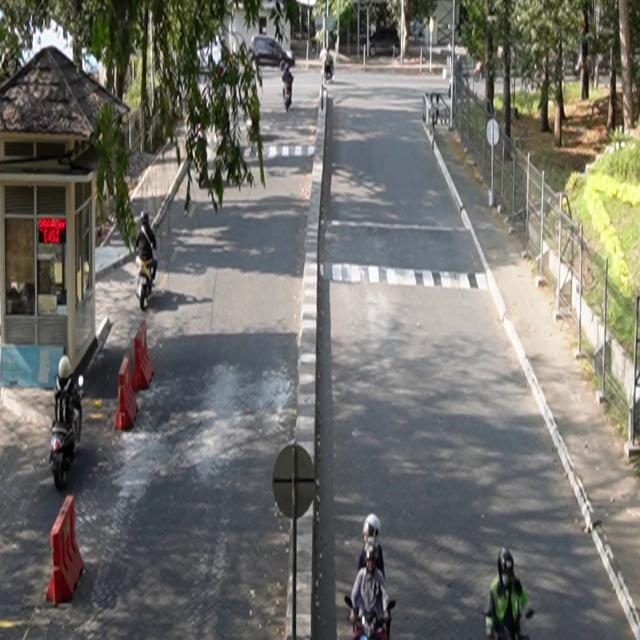car: (249, 36, 296, 72)
